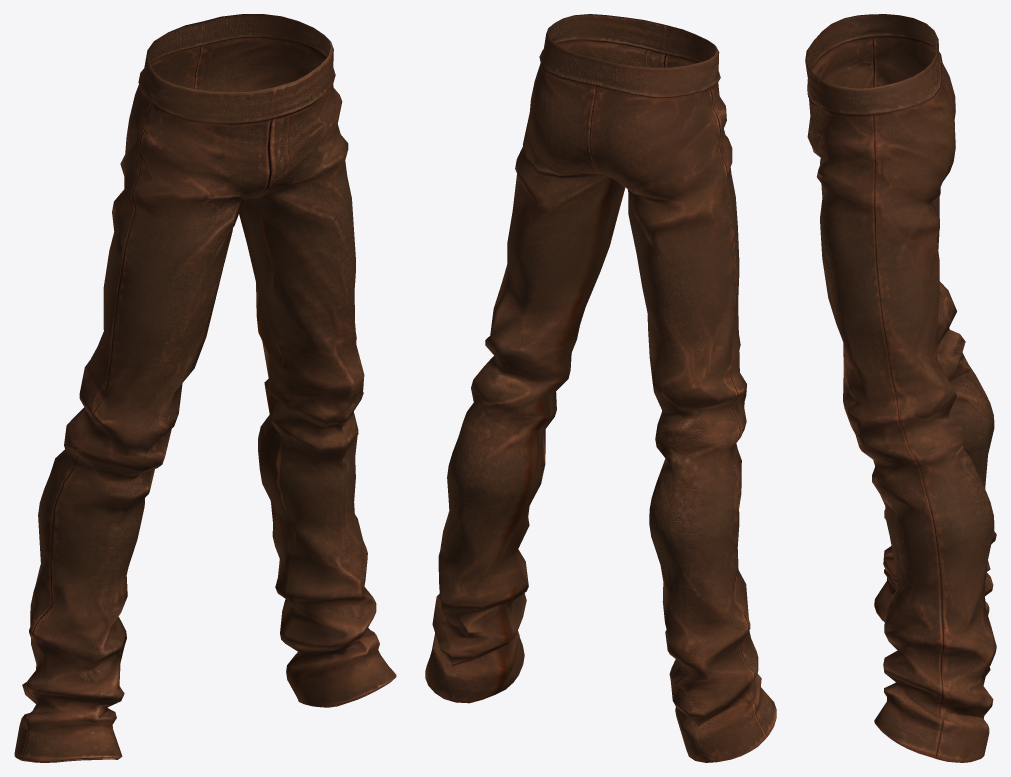
The model's file is trousers.glb.
3 renders of one model, left to right at view 1: azimuth 30°, elevation 25°; view 2: azimuth 150°, elevation 25°; view 3: azimuth 270°, elevation 25°, orthographic. The views are drawn at different scales.
Parts seen in each view (by area): view 1: tripo_node_ca9513a3-2c7c-47f4-b5da-494a188aaed3; view 2: tripo_node_ca9513a3-2c7c-47f4-b5da-494a188aaed3; view 3: tripo_node_ca9513a3-2c7c-47f4-b5da-494a188aaed3.
Boxes of the visible parts, left/top/right/bottom form: tripo_node_ca9513a3-2c7c-47f4-b5da-494a188aaed3: left=14, top=14, right=396, bottom=762; tripo_node_ca9513a3-2c7c-47f4-b5da-494a188aaed3: left=425, top=14, right=776, bottom=762; tripo_node_ca9513a3-2c7c-47f4-b5da-494a188aaed3: left=805, top=14, right=996, bottom=762.
Bounding box in the file's own units: 0.5337 × 0.9995 × 0.2671.
1 material, 1 textured.
